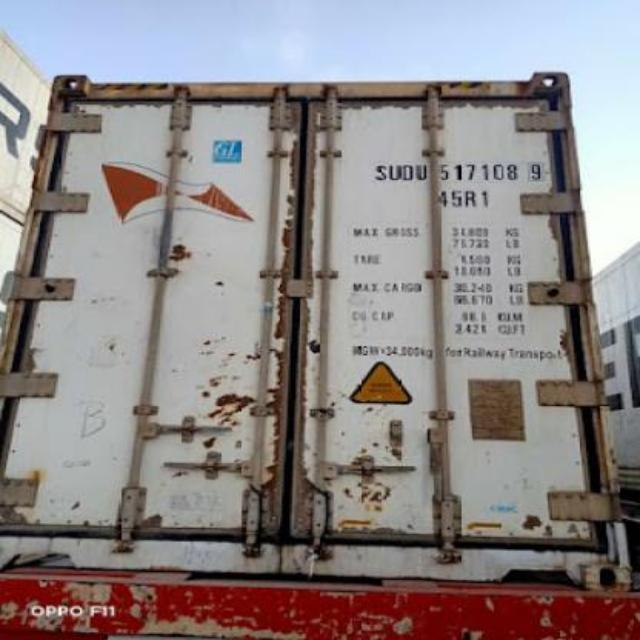0: (494, 158, 508, 186)
1: (478, 158, 494, 186), (452, 156, 468, 182)
5: (431, 160, 452, 184)
7: (466, 154, 476, 182)
8: (506, 159, 522, 183)
9: (528, 157, 550, 183)
D: (401, 158, 414, 186)
S: (368, 156, 386, 182)
U: (388, 158, 404, 186), (416, 162, 429, 182)
